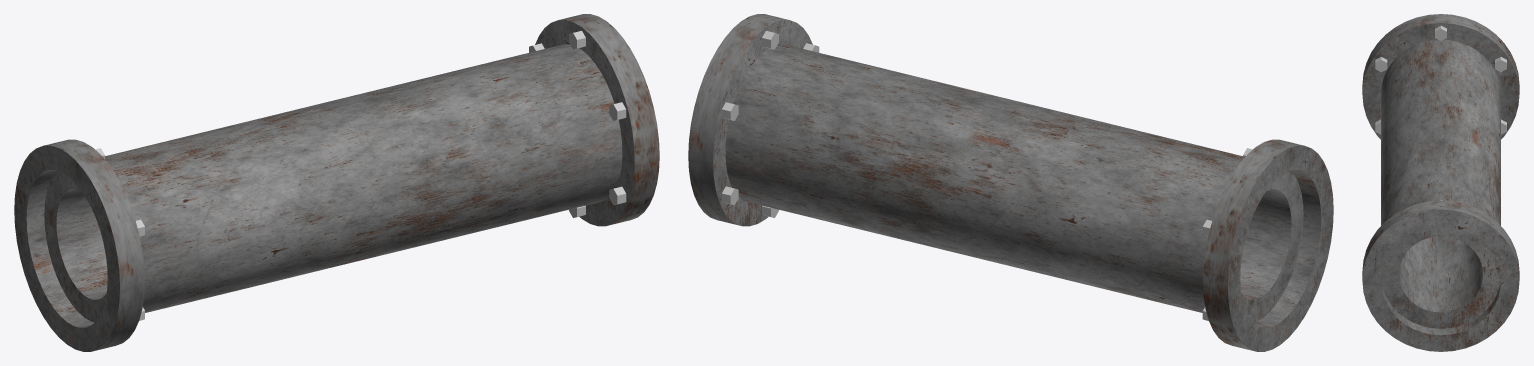
The model's file is Straight_Pipe_Horizontal.fbx.
3 renders of one model, left to right at view 1: azimuth 30°, elevation 25°; view 2: azimuth 150°, elevation 25°; view 3: azimuth 270°, elevation 25°, orthographic. The views are drawn at different scales.
Visible parts, largest first — view 1: pCylinder10; view 2: pCylinder10; view 3: pCylinder10.
Boxes of the visible parts, x1,y1,x2,y2 form: pCylinder10: (14,14,659,351); pCylinder10: (688,14,1333,351); pCylinder10: (1362,14,1519,351).
Bounding box in the file's own units: 3 × 1.02 × 1.02.
